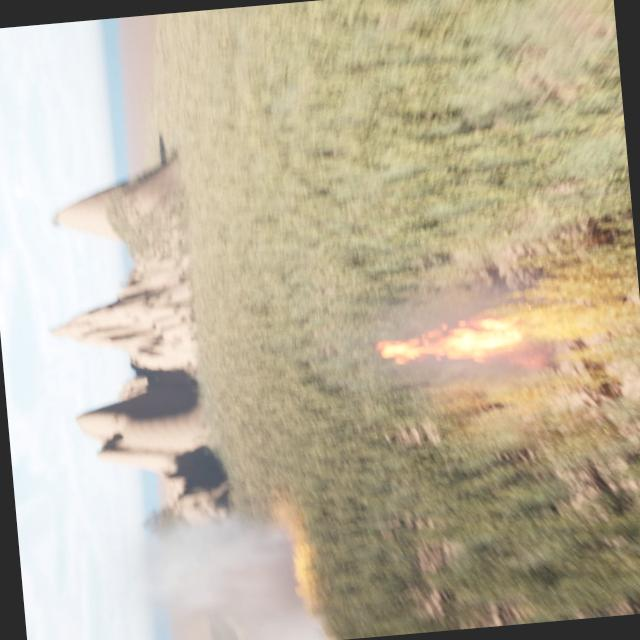fire: (376, 318, 550, 376)
smoke: (127, 507, 330, 640), (338, 276, 534, 402)
